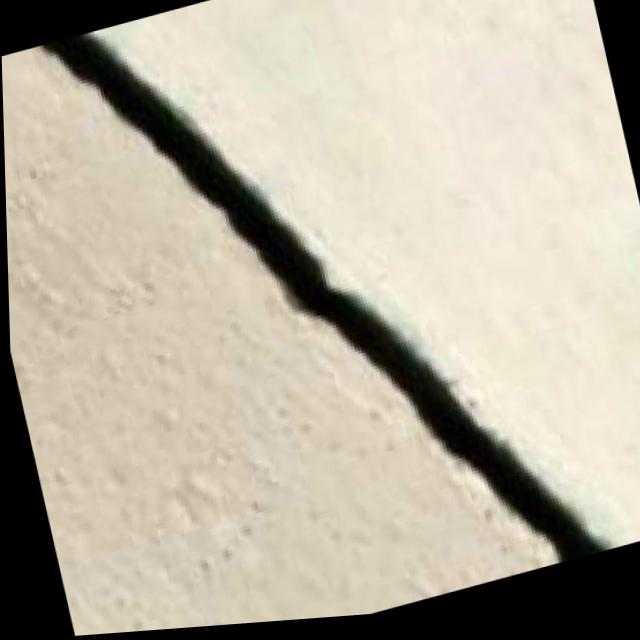Crack: (31, 0, 618, 638)
